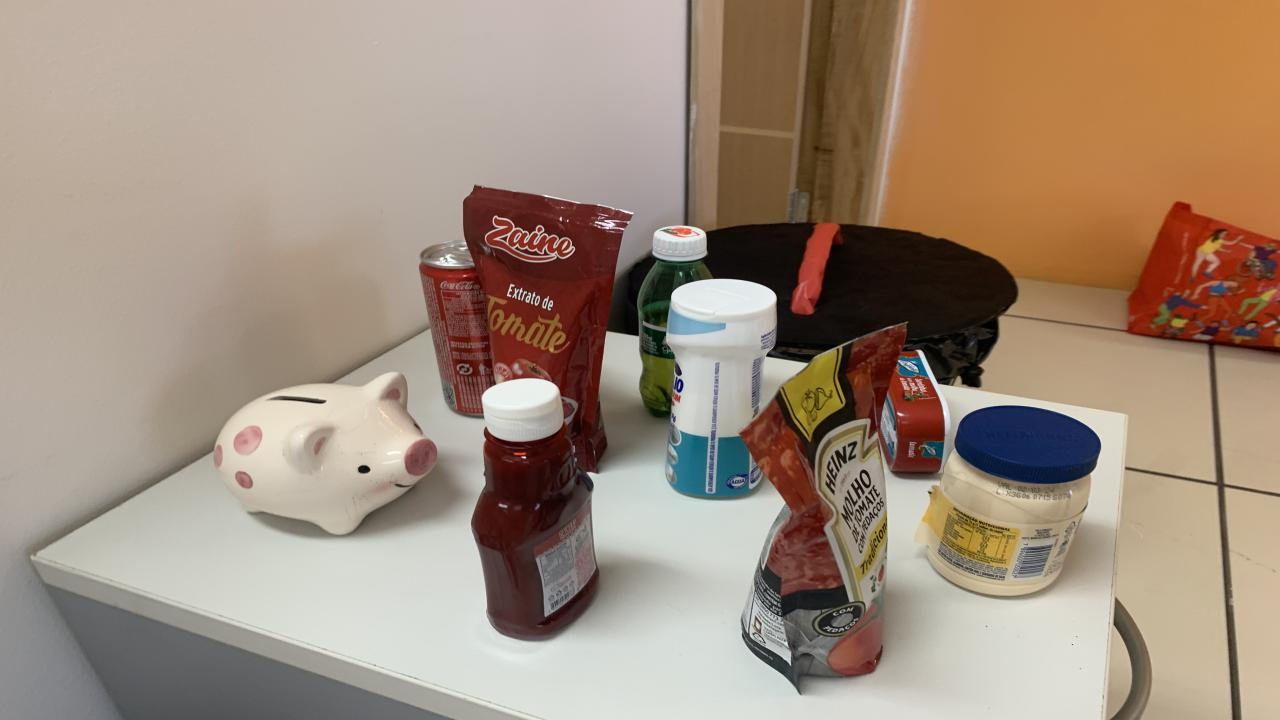Cleaner-Cleanup_Items: (665, 279, 778, 497)
Coke-Drinks: (420, 240, 495, 414)
Guarana-Drinks: (638, 225, 712, 416)
Ketchup-Pantry_Items: (472, 379, 598, 638)
Mayonnaise-Pantry_Items: (915, 407, 1100, 596)
Pig_Safe-Miscellaneous: (212, 371, 438, 534)
Tomato_Sauce-Pantry_Items: (740, 324, 905, 686), (462, 186, 632, 471)
Tuna_Can-Pantry_Items: (880, 351, 950, 472)
